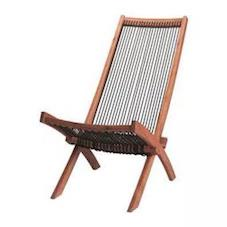chair: (41, 4, 192, 217)
